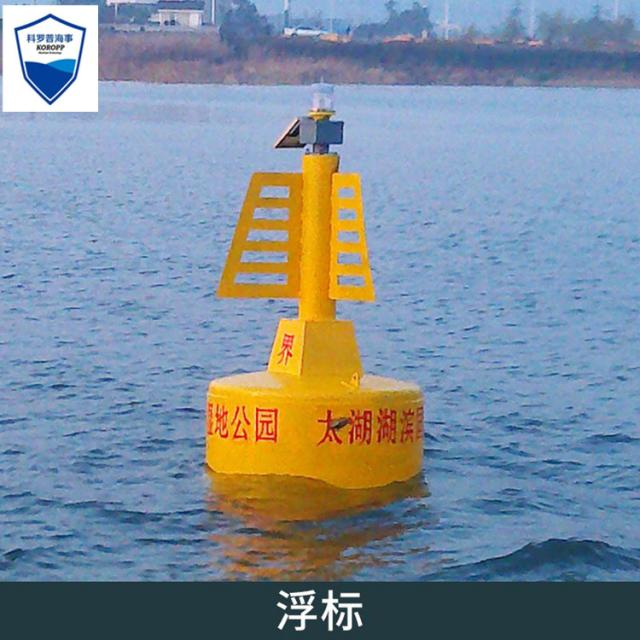buoy: (196, 65, 430, 481)
